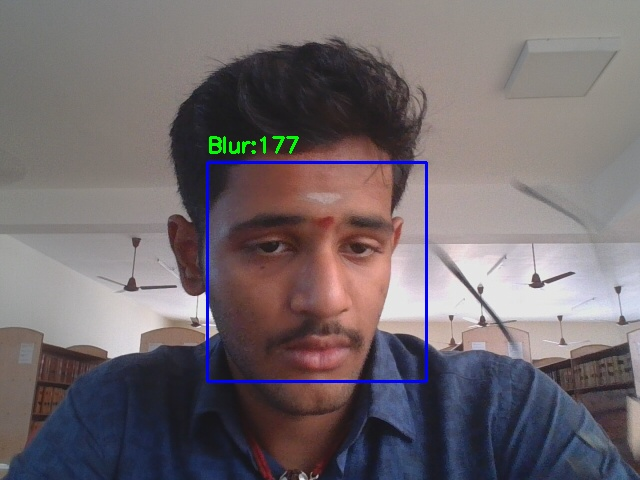real: (207, 162, 426, 381)
